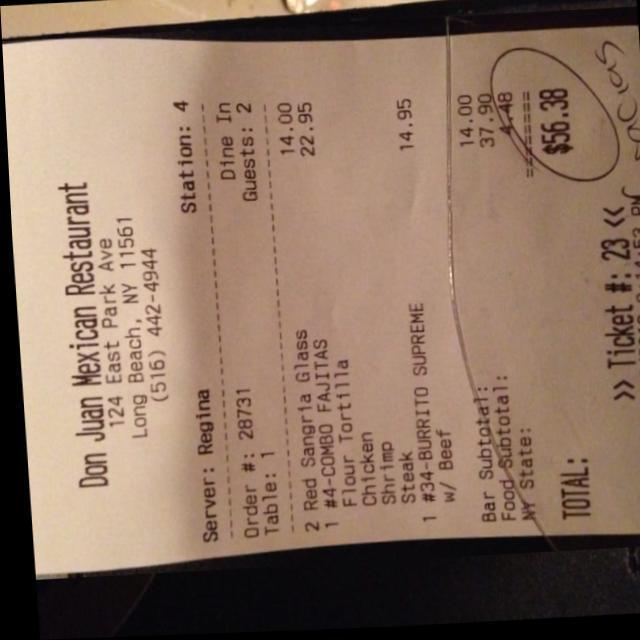Paper: (1, 10, 640, 579)
